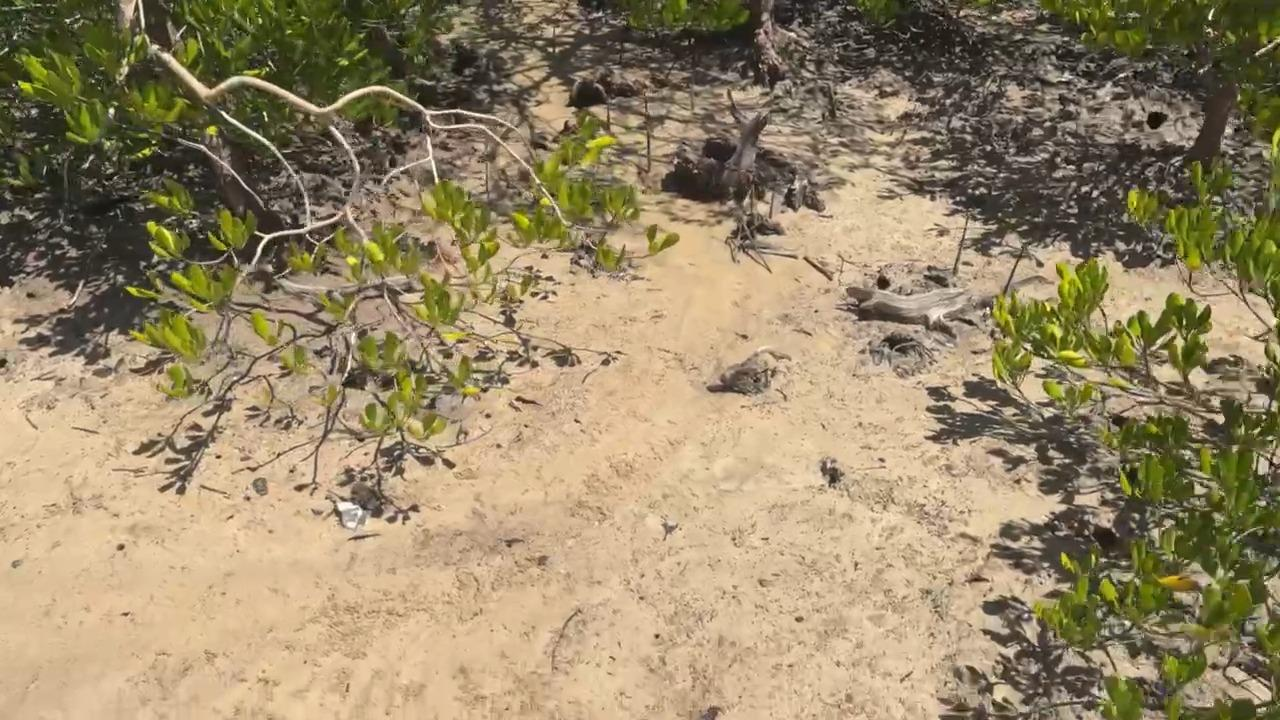Tree: (1002, 244, 1025, 296), (953, 214, 970, 276), (642, 93, 652, 172), (689, 62, 696, 111), (606, 98, 610, 133)
